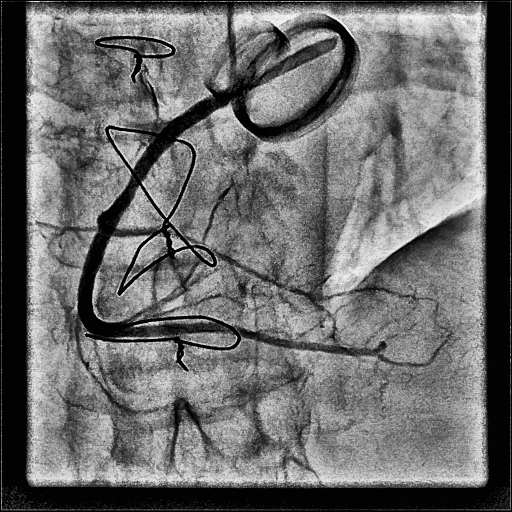pda: (120, 324, 385, 358)
rca: (77, 86, 230, 337)
